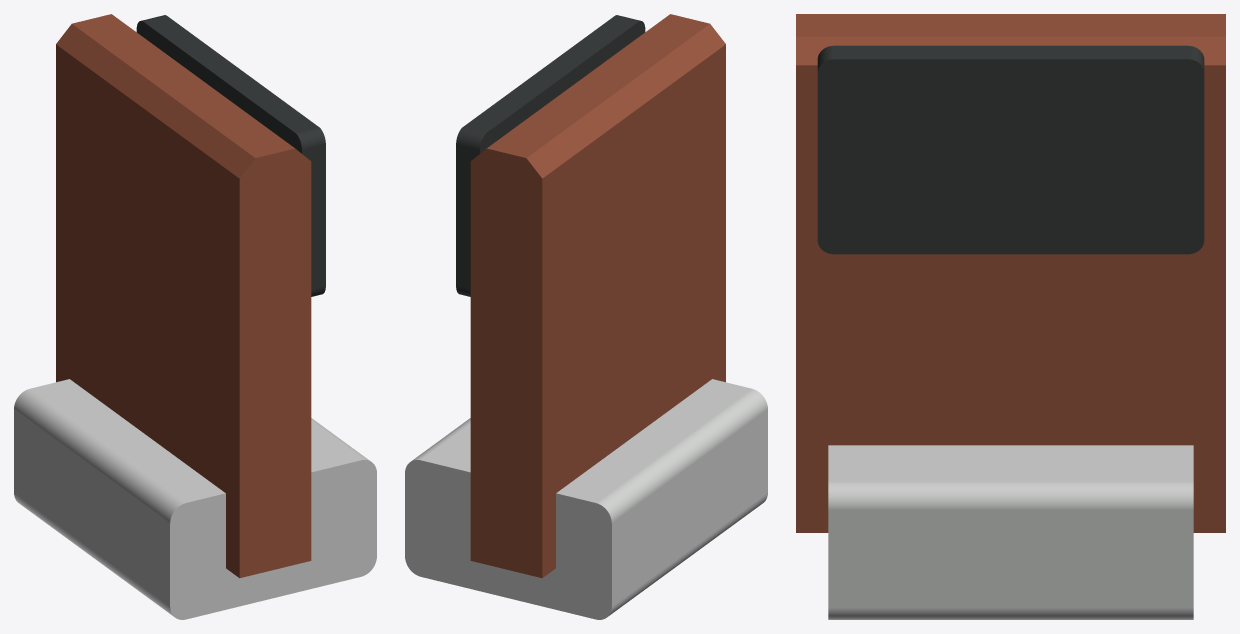
Rendered from parallel_tote_gripper_left_finger.glb.
3 views of the same model, side by side, from view 1: azimuth 30°, elevation 25°; view 2: azimuth 150°, elevation 25°; view 3: azimuth 270°, elevation 25° (orthographic). The views are drawn at different scales.
Visible parts, largest first — view 1: parallel_tote_gripper_left_finger_accent, parallel_tote_gripper_left_finger_steel, parallel_tote_gripper_left_finger_graphite; view 2: parallel_tote_gripper_left_finger_accent, parallel_tote_gripper_left_finger_steel, parallel_tote_gripper_left_finger_graphite; view 3: parallel_tote_gripper_left_finger_accent, parallel_tote_gripper_left_finger_graphite, parallel_tote_gripper_left_finger_steel.
Part boxes in pixels (left/top/right/bottom): parallel_tote_gripper_left_finger_accent: left=56, top=14, right=311, bottom=578; parallel_tote_gripper_left_finger_steel: left=14, top=379, right=376, bottom=619; parallel_tote_gripper_left_finger_graphite: left=136, top=15, right=325, bottom=296; parallel_tote_gripper_left_finger_accent: left=470, top=14, right=725, bottom=578; parallel_tote_gripper_left_finger_steel: left=405, top=379, right=767, bottom=619; parallel_tote_gripper_left_finger_graphite: left=456, top=15, right=645, bottom=296; parallel_tote_gripper_left_finger_accent: left=796, top=14, right=1225, bottom=532; parallel_tote_gripper_left_finger_graphite: left=817, top=45, right=1204, bottom=254; parallel_tote_gripper_left_finger_steel: left=828, top=445, right=1193, bottom=619.
Size of the model in its own units: 0.026 by 0.055 by 0.04.
